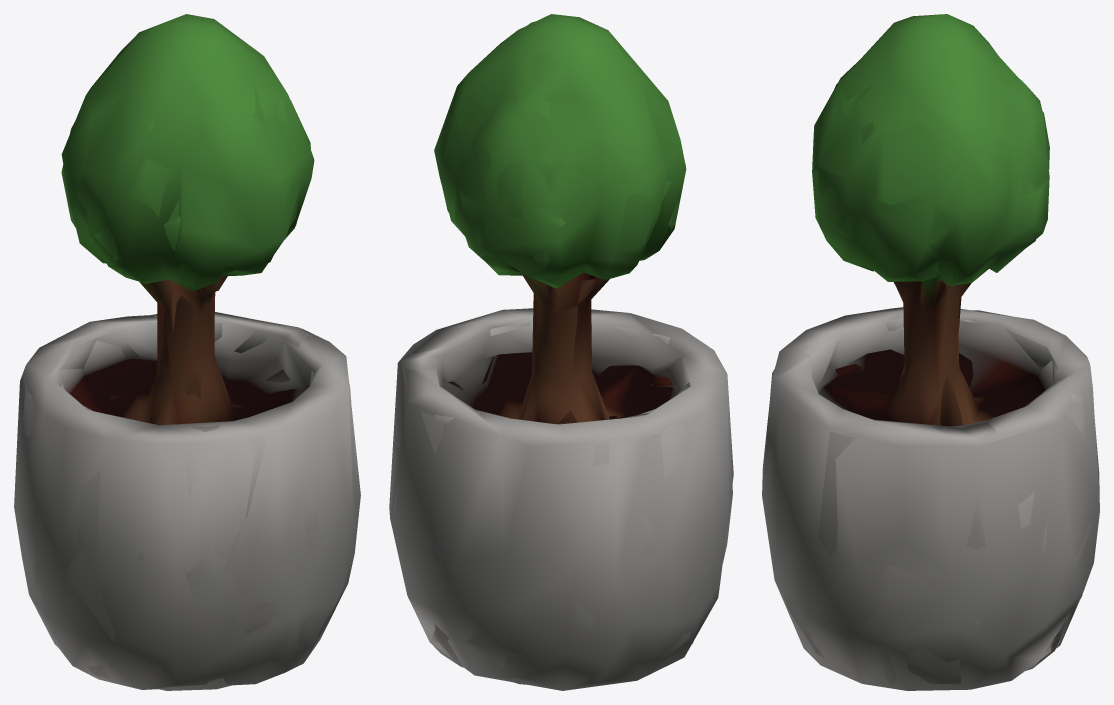
Rendered from gen3d-concrete-planter-with-tree-lod1.glb.
3 renders of one model, left to right at view 1: azimuth 30°, elevation 25°; view 2: azimuth 150°, elevation 25°; view 3: azimuth 270°, elevation 25°, orthographic.
Visible parts, largest first — view 1: part_0; view 2: part_0; view 3: part_0.
Boxes of the visible parts, x1,y1,x2,y2 form: part_0: (14,14,360,690); part_0: (389,14,733,690); part_0: (762,14,1099,690).
Bounding box in the file's own units: 0.5102 × 0.9987 × 0.4938.
